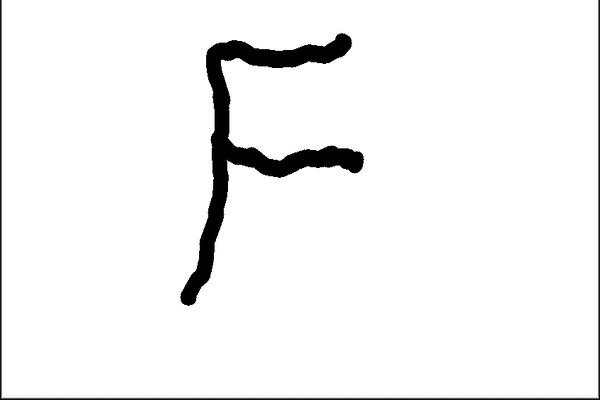F: (175, 30, 366, 308)
